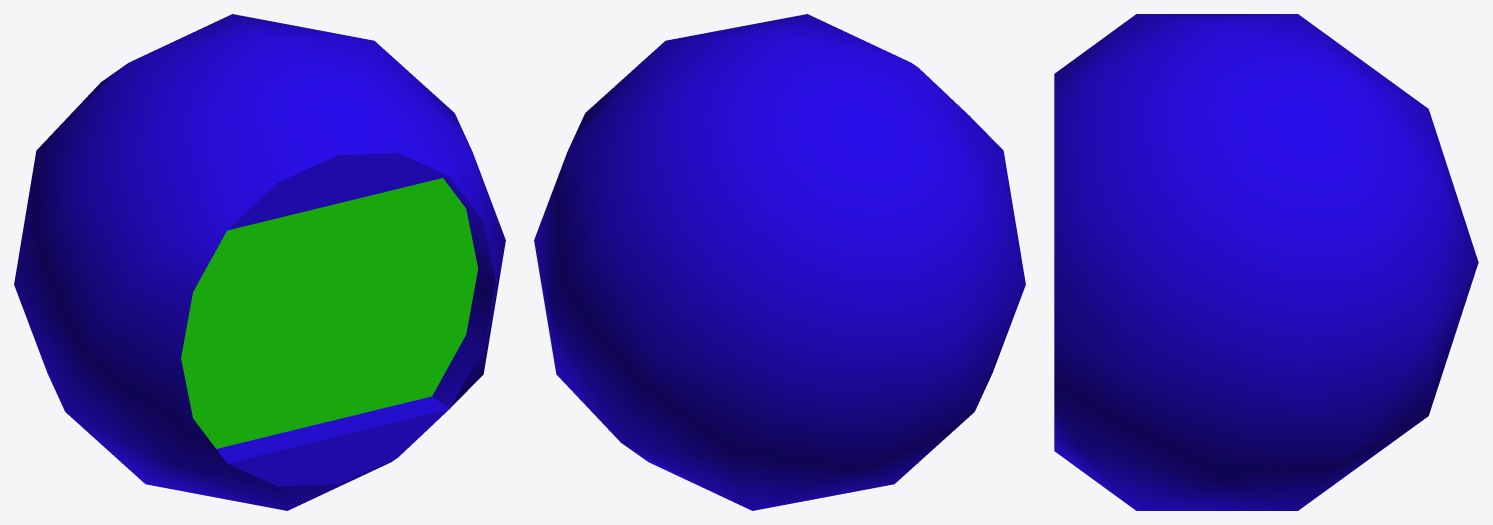
The model's file is EnemyMesh.fbx.
3 views of the same model, side by side, from view 1: azimuth 30°, elevation 25°; view 2: azimuth 150°, elevation 25°; view 3: azimuth 270°, elevation 25° (orthographic). The views are drawn at different scales.
Parts seen in each view (by area): view 1: SM_Enemy; view 2: SM_Enemy; view 3: SM_Enemy.
Part boxes in pixels (x1=…): SM_Enemy: x1=14, y1=14, x2=505, y2=510; SM_Enemy: x1=534, y1=14, x2=1025, y2=510; SM_Enemy: x1=1054, y1=14, x2=1478, y2=510.
Size of the model in its own units: 190 by 200 by 162.
